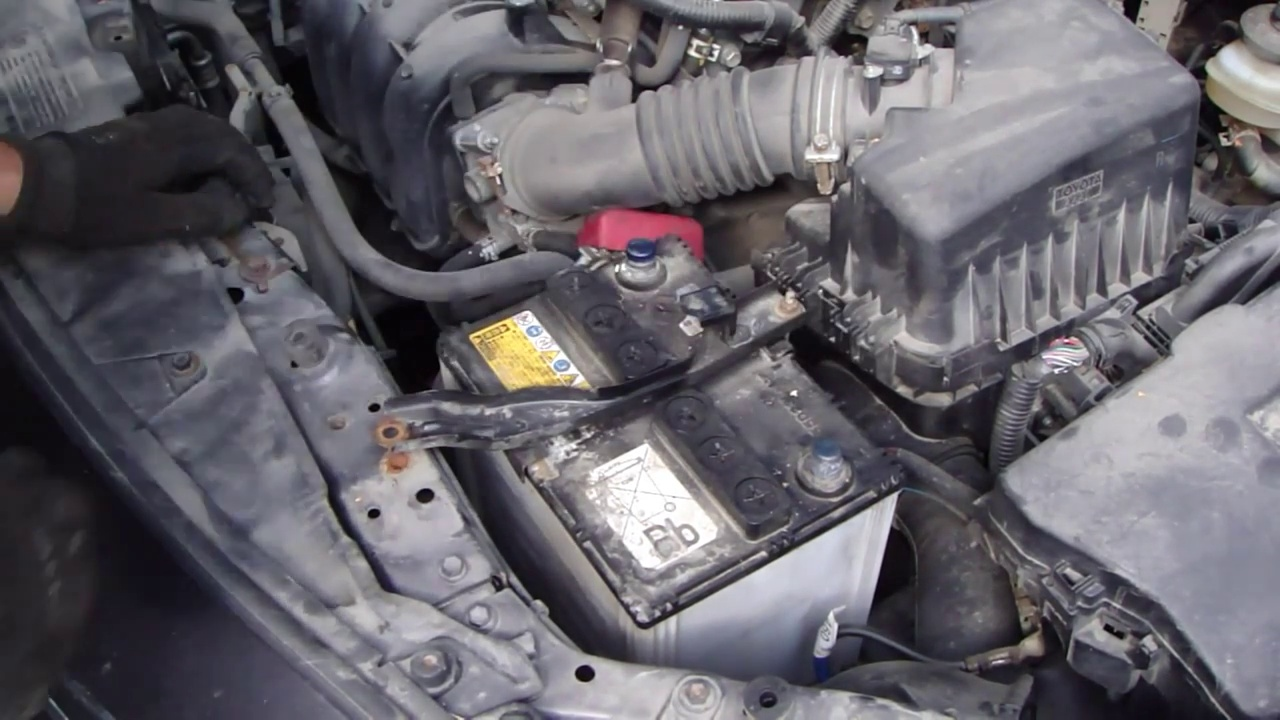battery: (443, 236, 904, 615)
neg_disconnected: (777, 429, 870, 503)
pos_disconnected: (581, 207, 707, 297)
